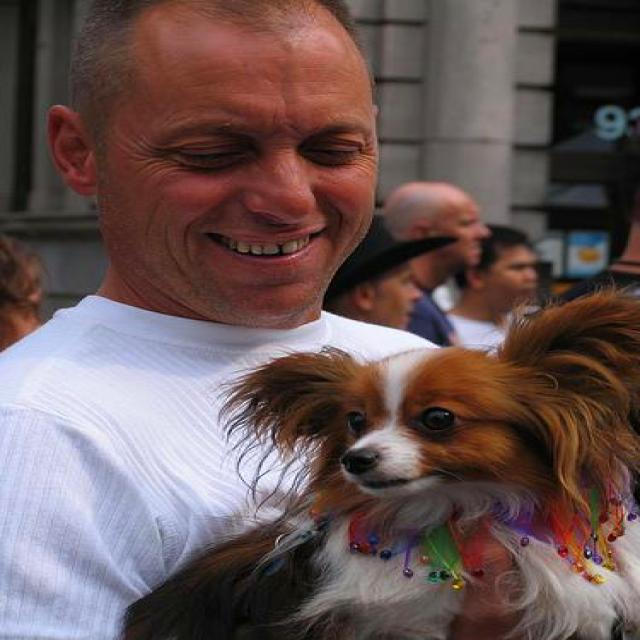papillon: (230, 283, 636, 637)
